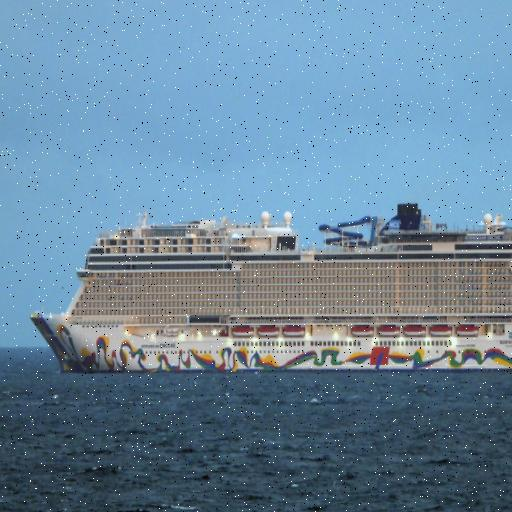cruises: (29, 194, 512, 385)
